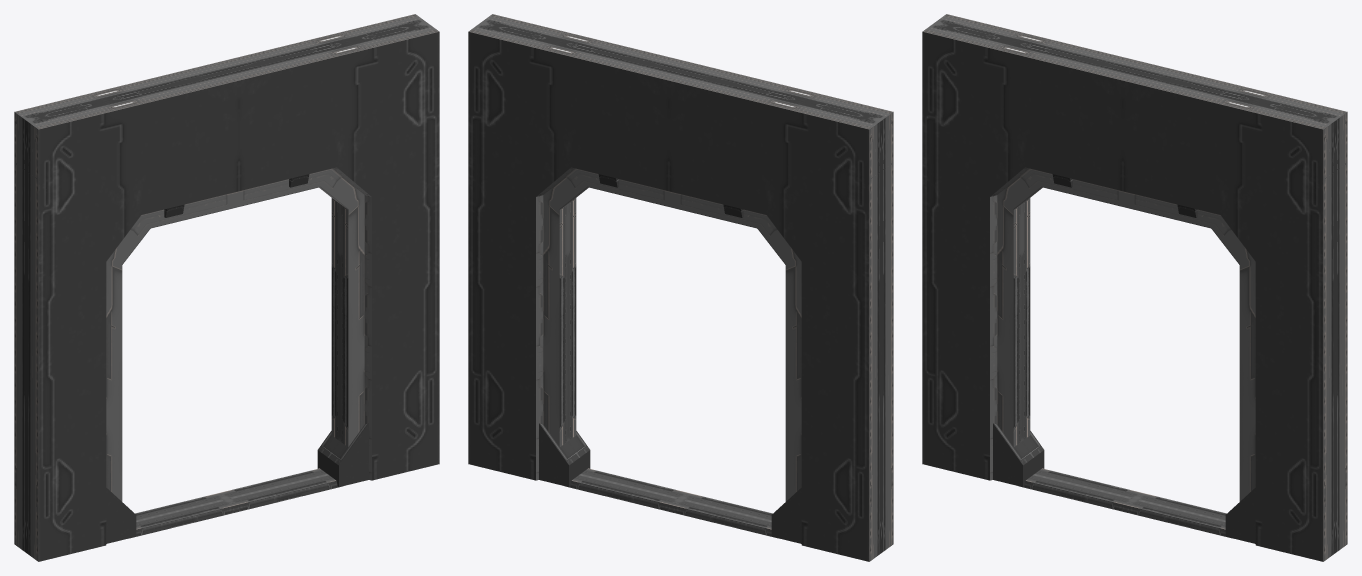
File: Door_Frame_Square.gltf
3 renders of one model, left to right at view 1: azimuth 30°, elevation 25°; view 2: azimuth 150°, elevation 25°; view 3: azimuth 330°, elevation 25°, orthographic.
Visible parts, largest first — view 1: Door_Frame_Square; view 2: Door_Frame_Square; view 3: Door_Frame_Square.
Boxes of the visible parts, x1,y1,x2,y2 form: Door_Frame_Square: [14, 14, 439, 561]; Door_Frame_Square: [468, 14, 893, 561]; Door_Frame_Square: [922, 14, 1347, 561].
Size of the model in its own units: 4.85 by 5.01 by 0.5068.
1 material, 1 textured.
